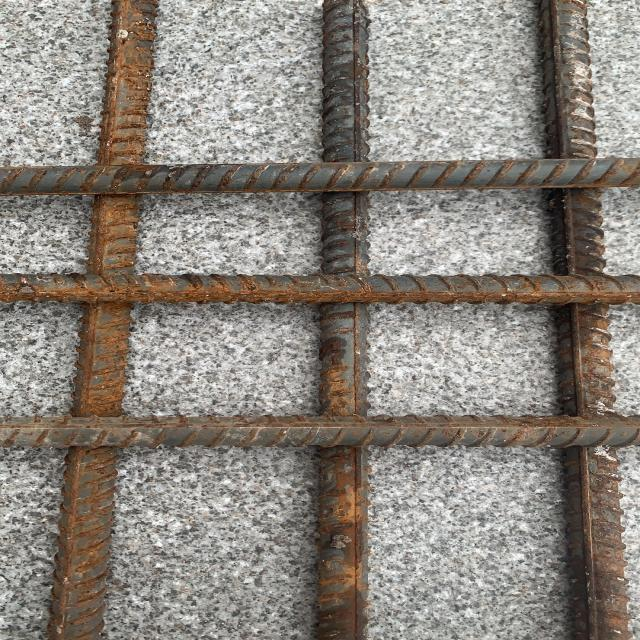ribbed bar: (42, 0, 161, 639), (532, 0, 636, 639), (305, 1, 374, 639), (0, 157, 639, 197), (0, 413, 639, 449), (0, 272, 639, 305)
